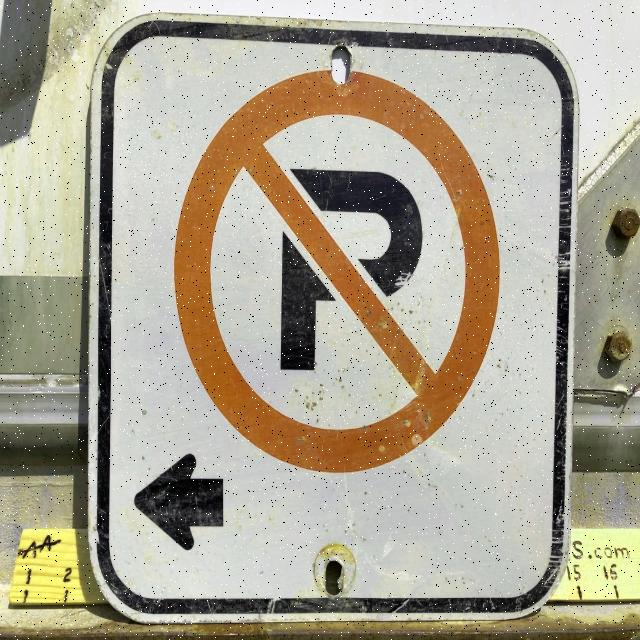No_parking: (178, 69, 499, 471)
